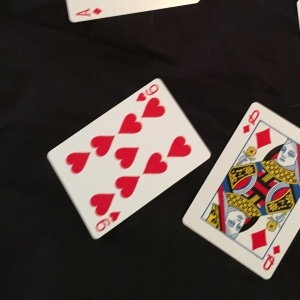card: (43, 76, 211, 240)
